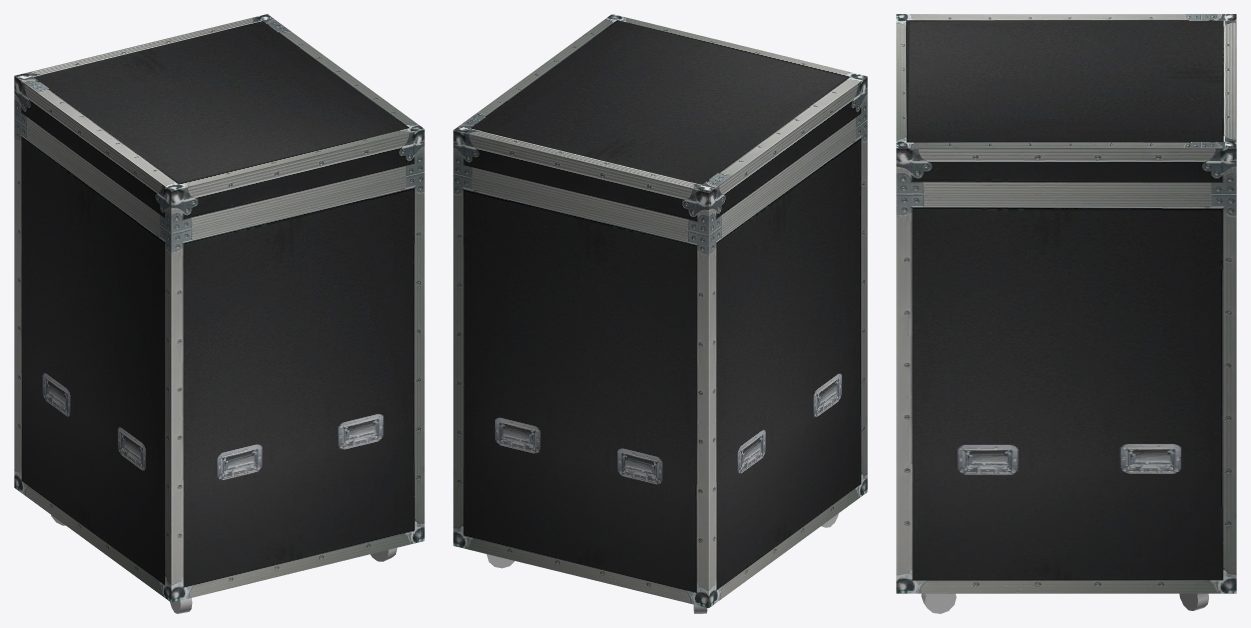
File: Flight_Case_A.fbx
3 views of the same model, side by side, from view 1: azimuth 30°, elevation 25°; view 2: azimuth 150°, elevation 25°; view 3: azimuth 270°, elevation 25° (orthographic). The views are drawn at different scales.
Parts seen in each view (by area): view 1: Flight_Case; view 2: Flight_Case; view 3: Flight_Case, Caster_Wheels.
Boxes of the visible parts, left/top/right/bottom form: Flight_Case: left=14, top=14, right=424, bottom=602; Flight_Case: left=453, top=14, right=867, bottom=607; Flight_Case: left=896, top=14, right=1236, bottom=593; Caster_Wheels: left=921, top=593, right=1208, bottom=613.
Bounding box in the file's own units: 0.867 × 1.44 × 0.9324.
